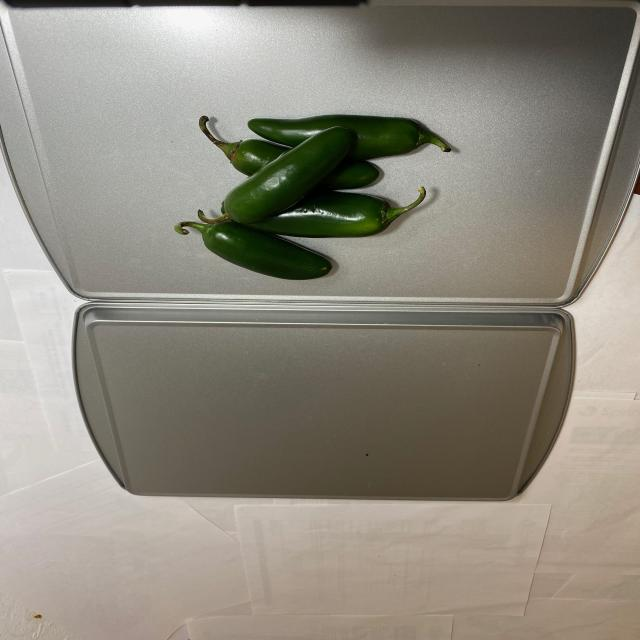chilli: (180, 118, 448, 289)
